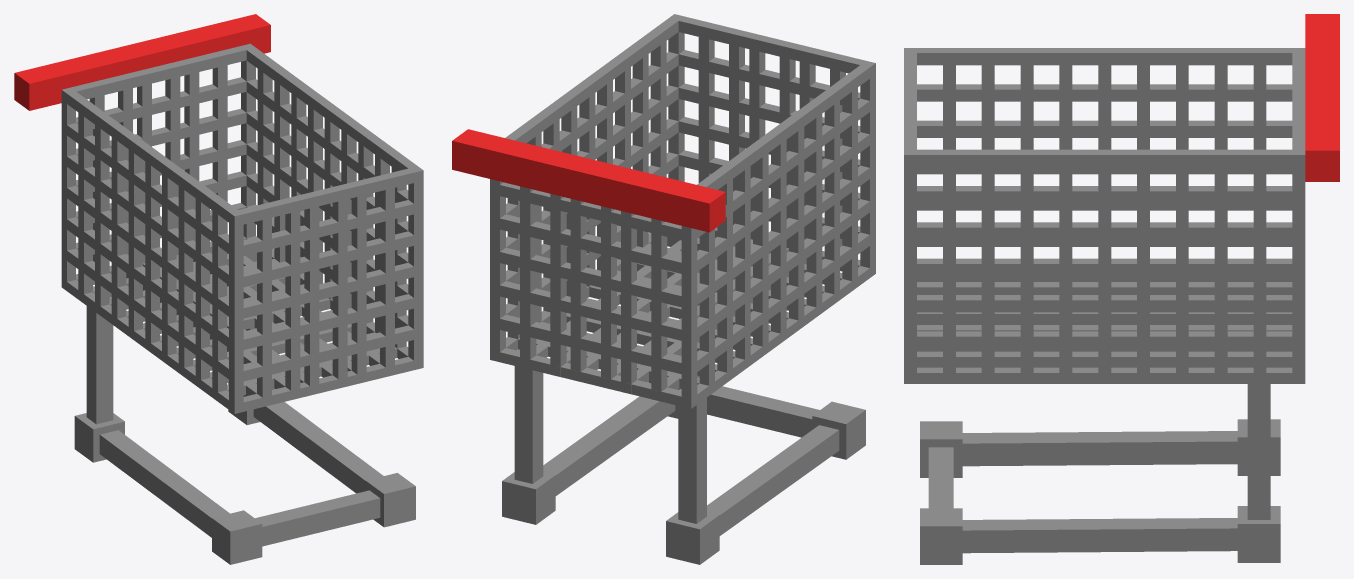
Rendered from epic_moist_winkelwagen.FBX.
3 renders of one model, left to right at view 1: azimuth 30°, elevation 25°; view 2: azimuth 150°, elevation 25°; view 3: azimuth 270°, elevation 25°, orthographic. The views are drawn at different scales.
Visible parts, largest first — view 1: Box001; view 2: Box001; view 3: Box001.
Boxes of the visible parts, x1=… form: Box001: x1=14, y1=14, x2=423, y2=564; Box001: x1=452, y1=14, x2=875, y2=564; Box001: x1=904, y1=14, x2=1339, y2=564.
Bounding box in the file's own units: 161 × 235 × 217.
